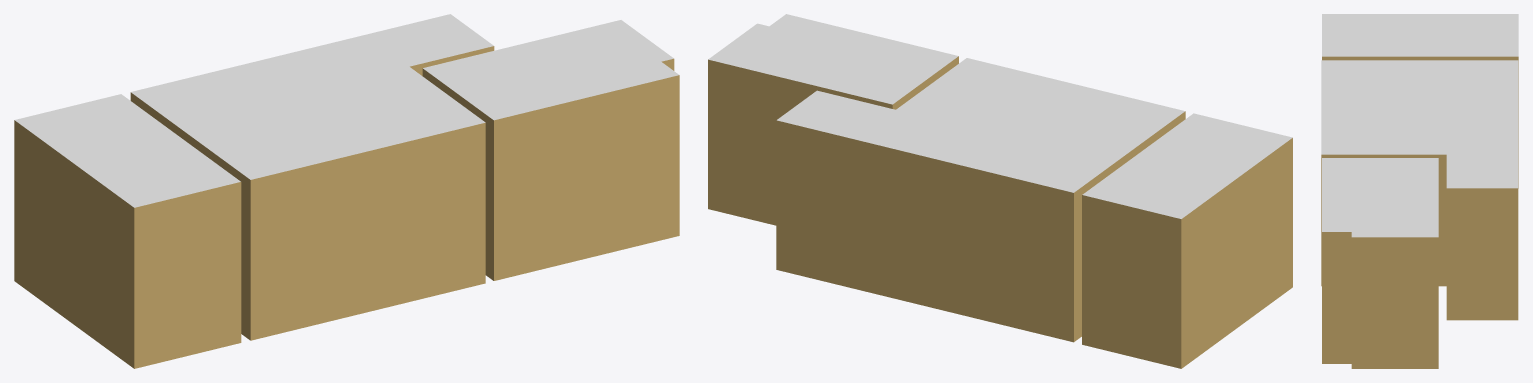
The model's file is Bedroom_1.glb.
3 renders of one model, left to right at view 1: azimuth 30°, elevation 25°; view 2: azimuth 150°, elevation 25°; view 3: azimuth 270°, elevation 25°, orthographic. The views are drawn at different scales.
Visible parts, largest first — view 1: Room_Bedroom1, Room_En-Suite1, Room_Dressing1_Cpd; view 2: Room_Bedroom1, Room_En-Suite1, Room_Dressing1_Cpd; view 3: Room_Bedroom1, Room_Dressing1_Cpd, Room_En-Suite1.
Boxes of the visible parts, x1,y1,x2,y2 form: Room_Bedroom1: (130, 14, 494, 340); Room_En-Suite1: (14, 94, 241, 368); Room_Dressing1_Cpd: (422, 20, 679, 280); Room_Bedroom1: (776, 58, 1185, 342); Room_En-Suite1: (1082, 113, 1292, 368); Room_Dressing1_Cpd: (708, 14, 958, 225); Room_Bedroom1: (1321, 60, 1518, 320); Room_Dressing1_Cpd: (1322, 158, 1438, 368); Room_En-Suite1: (1322, 14, 1518, 188).
Size of the model in its own units: 8.88 by 2.45 by 3.32.
